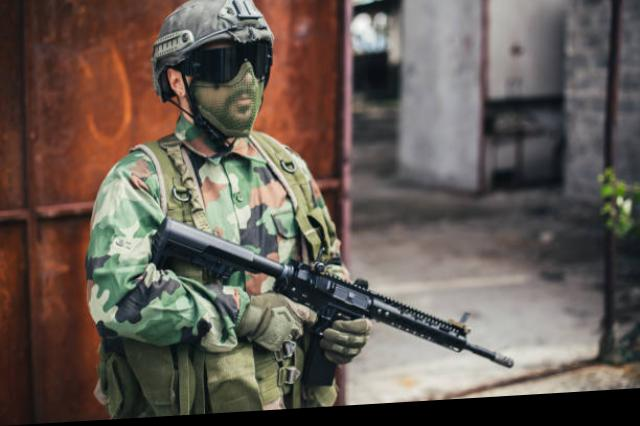other: (92, 0, 376, 415)
